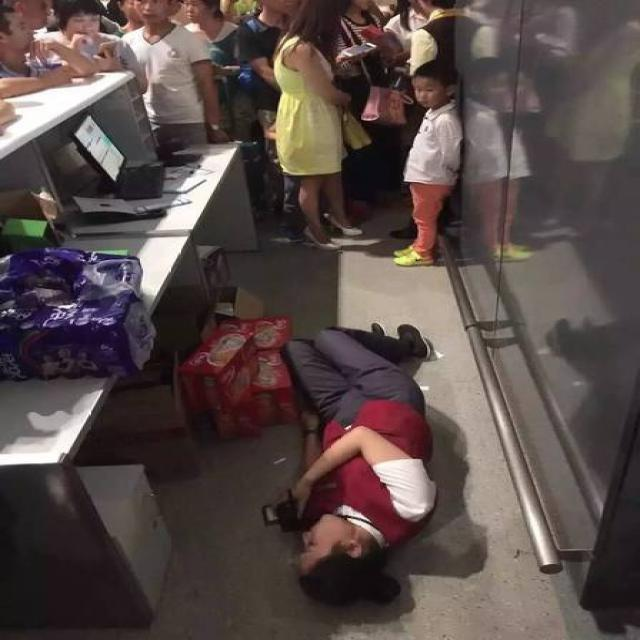10-: (1, 3, 532, 280)
down: (268, 318, 442, 606)
